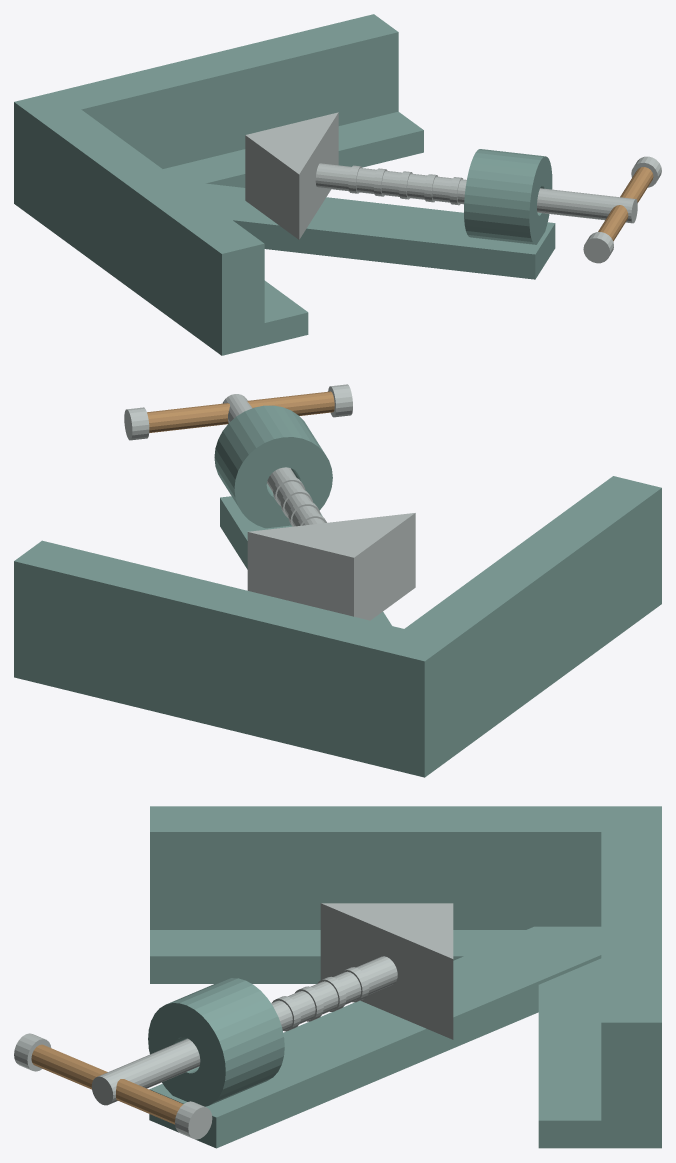
3 renders of one model, top to bottom at view 1: azimuth 30°, elevation 25°; view 2: azimuth 150°, elevation 25°; view 3: azimuth 270°, elevation 25°, orthographic. The views are drawn at different scales.
Visible parts, largest first — view 1: WholeLFoundationAndOrthogonalFences, WholeDiagonalFoundationRib, WholeTwoFaceTriangularJaw, WholeBoredDiagonalSpindleBoss, WholeFixedDiagonalProfiledSpindle, WholeTransverseHandbar, WholeHandbarEndStop-1; view 2: WholeLFoundationAndOrthogonalFences, WholeTwoFaceTriangularJaw, WholeBoredDiagonalSpindleBoss, WholeTransverseHandbar, WholeFixedDiagonalProfiledSpindle, WholeDiagonalFoundationRib, WholeHandbarEndStop1, WholeHandbarEndStop-1; view 3: WholeLFoundationAndOrthogonalFences, WholeDiagonalFoundationRib, WholeTwoFaceTriangularJaw, WholeBoredDiagonalSpindleBoss, WholeFixedDiagonalProfiledSpindle, WholeTransverseHandbar, WholeHandbarEndStop1, WholeHandbarEndStop-1.
Boxes of the visible parts, x1,y1,x2,y2 form: WholeLFoundationAndOrthogonalFences: (14,14,423,355); WholeDiagonalFoundationRib: (178,180,555,279); WholeTwoFaceTriangularJaw: (245,112,338,239); WholeBoredDiagonalSpindleBoss: (464,149,552,244); WholeFixedDiagonalProfiledSpindle: (315,163,637,223); WholeTransverseHandbar: (598,167,653,241); WholeHandbarEndStop-1: (583,232,613,263); WholeLFoundationAndOrthogonalFences: (14,476,661,777); WholeTwoFaceTriangularJaw: (247,513,415,620); WholeBoredDiagonalSpindleBoss: (214,405,332,528); WholeTransverseHandbar: (147,391,334,432); WholeFixedDiagonalProfiledSpindle: (222,394,326,526); WholeDiagonalFoundationRib: (220,496,391,625); WholeHandbarEndStop1: (124,407,149,440); WholeHandbarEndStop-1: (328,384,352,417); WholeLFoundationAndOrthogonalFences: (150,806,661,1148); WholeDiagonalFoundationRib: (149,926,601,1148); WholeTwoFaceTriangularJaw: (320,903,453,1039); WholeBoredDiagonalSpindleBoss: (148,978,284,1106); WholeFixedDiagonalProfiledSpindle: (91,956,397,1105); WholeTransverseHandbar: (31,1044,183,1124); WholeHandbarEndStop1: (175,1101,212,1139); WholeHandbarEndStop-1: (14,1033,51,1071).
Bounding box in the file's own units: 0.3418 × 0.074 × 0.3418.
